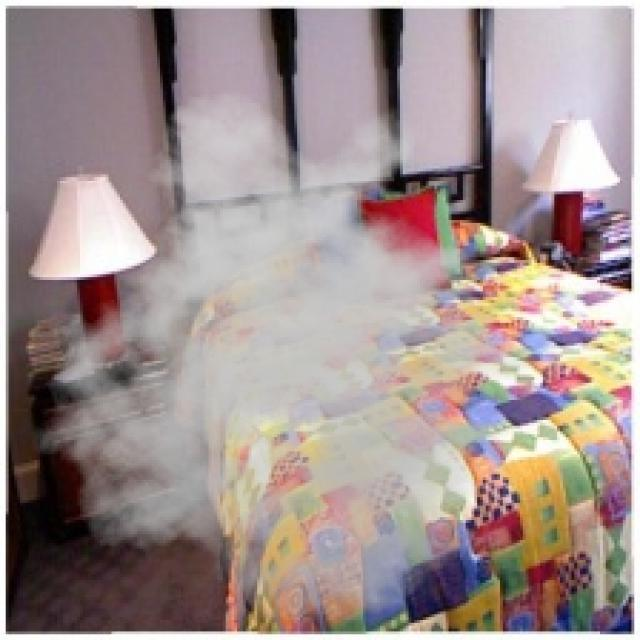Smoke: (20, 88, 563, 623)
